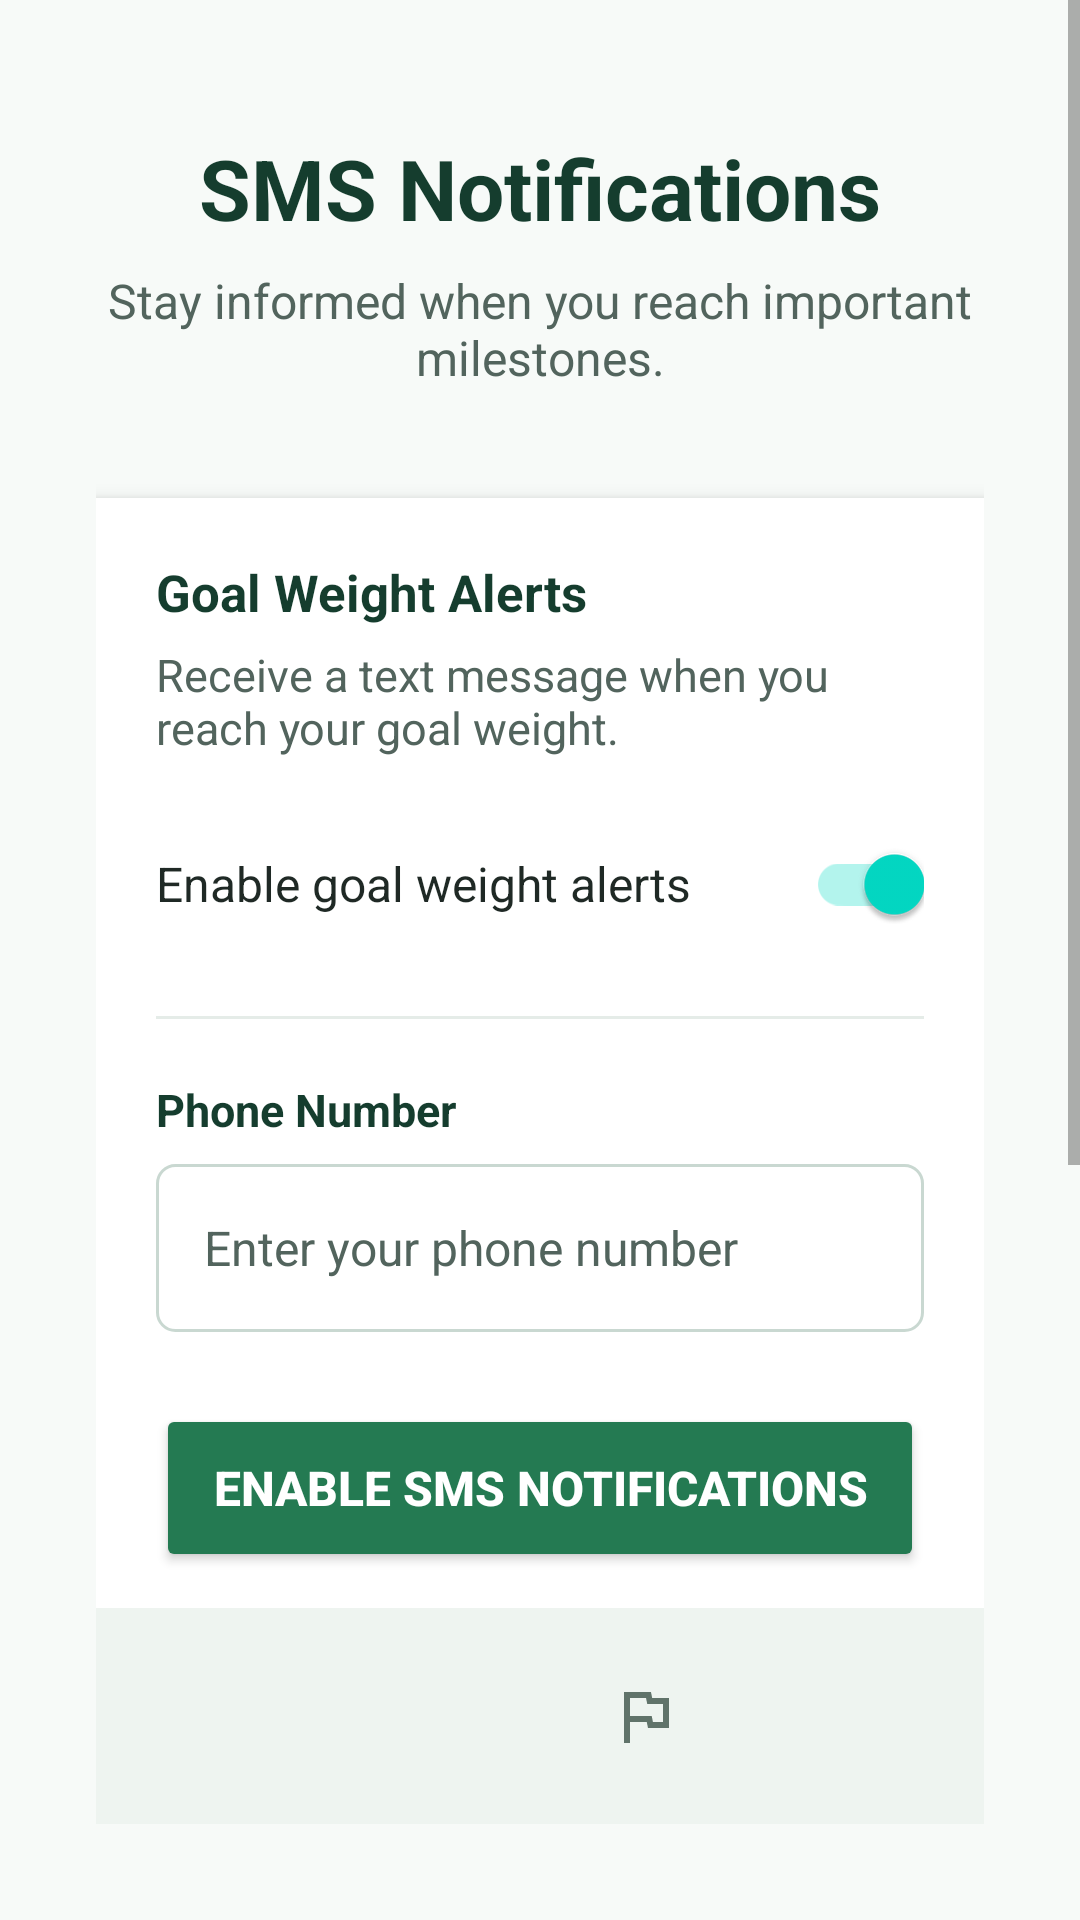

Icon click points for this 1080×1920 phone screenshot, format (x,y):
Goals: (646,1717)
